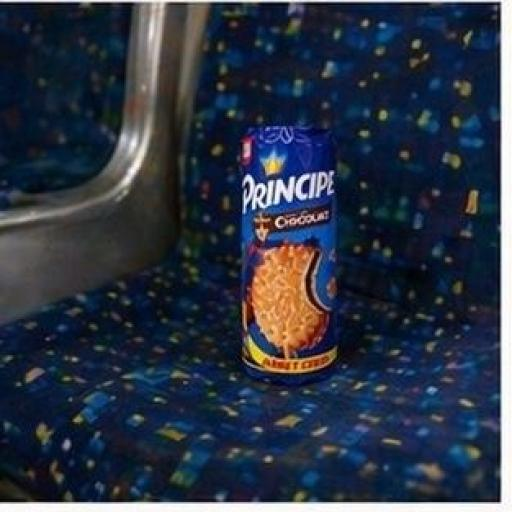prince: (166, 74, 406, 459)
